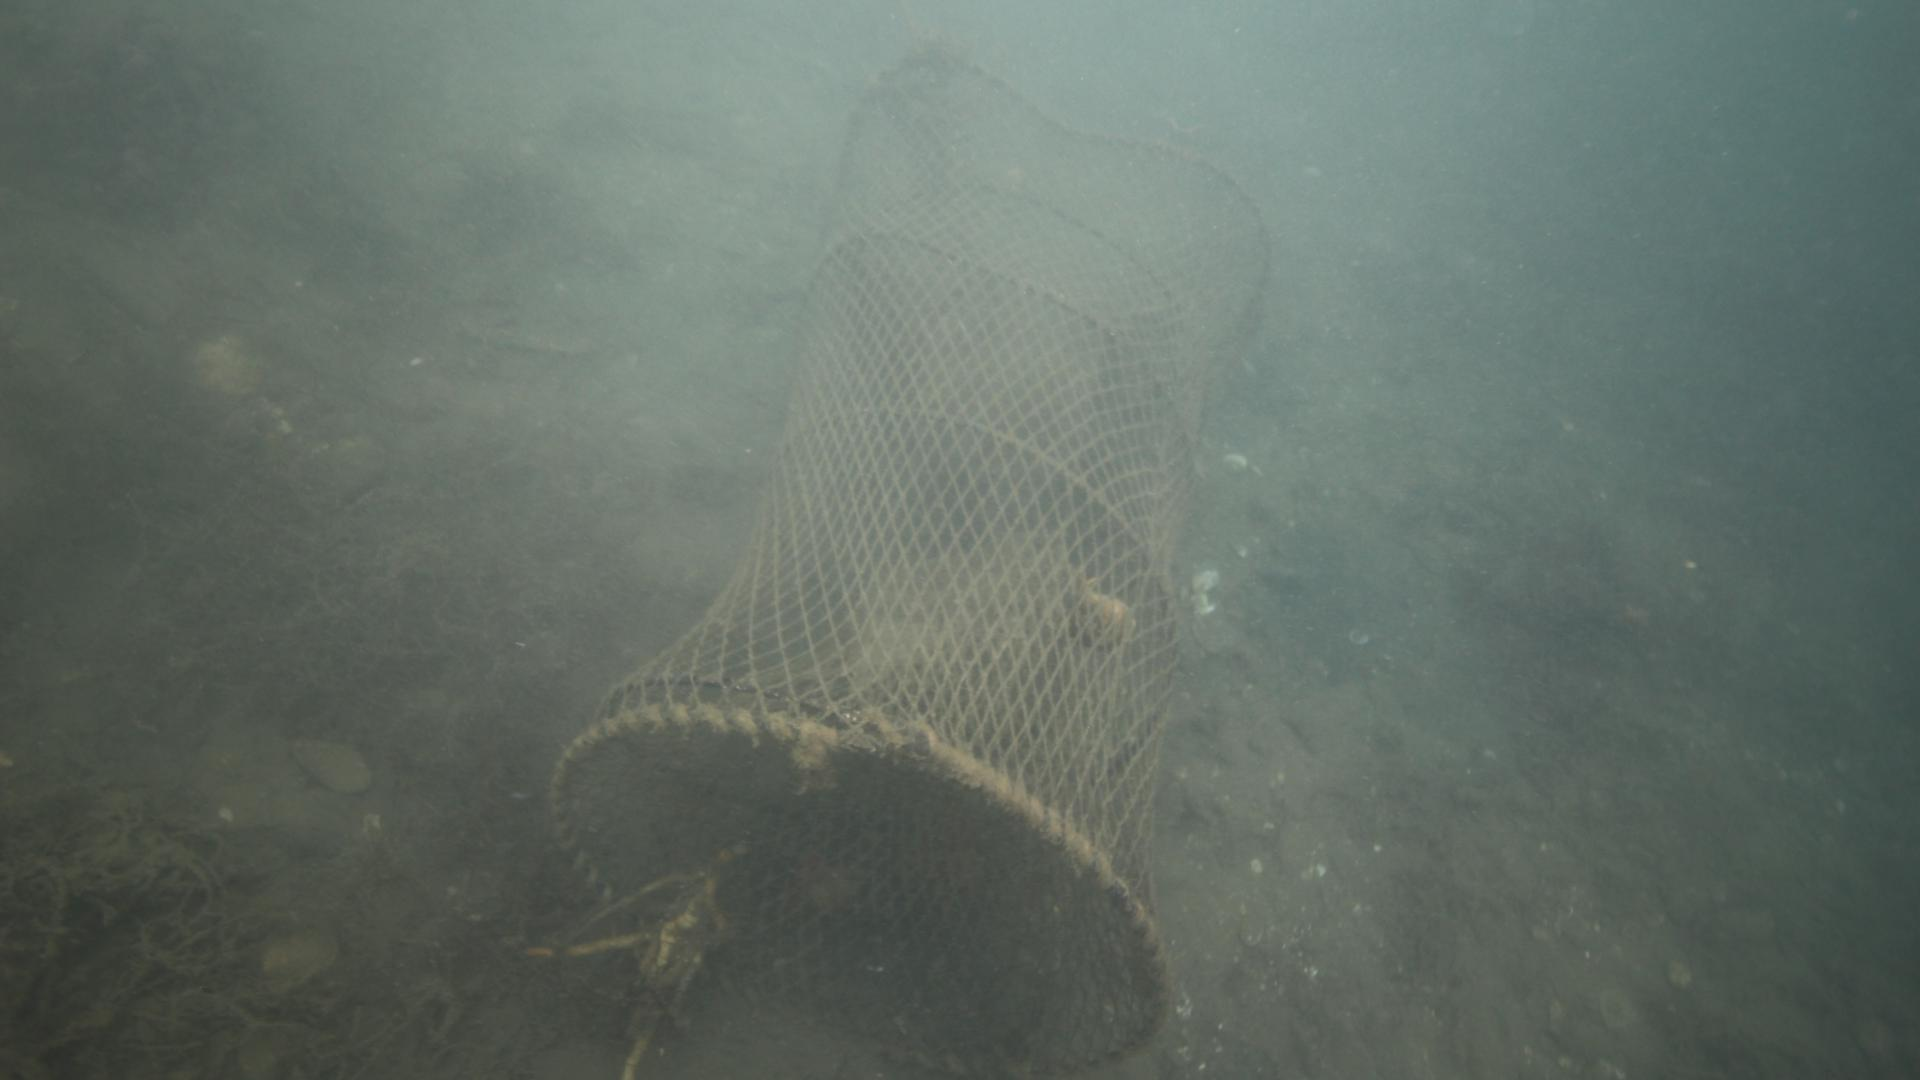spring fish trap: (549, 50, 1273, 1080)
